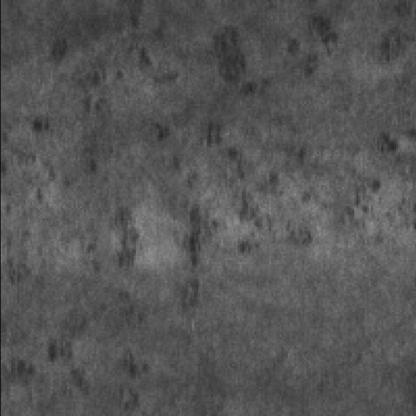rolled-in_scale: (77, 116, 325, 281), (45, 0, 343, 110), (8, 200, 152, 406)
